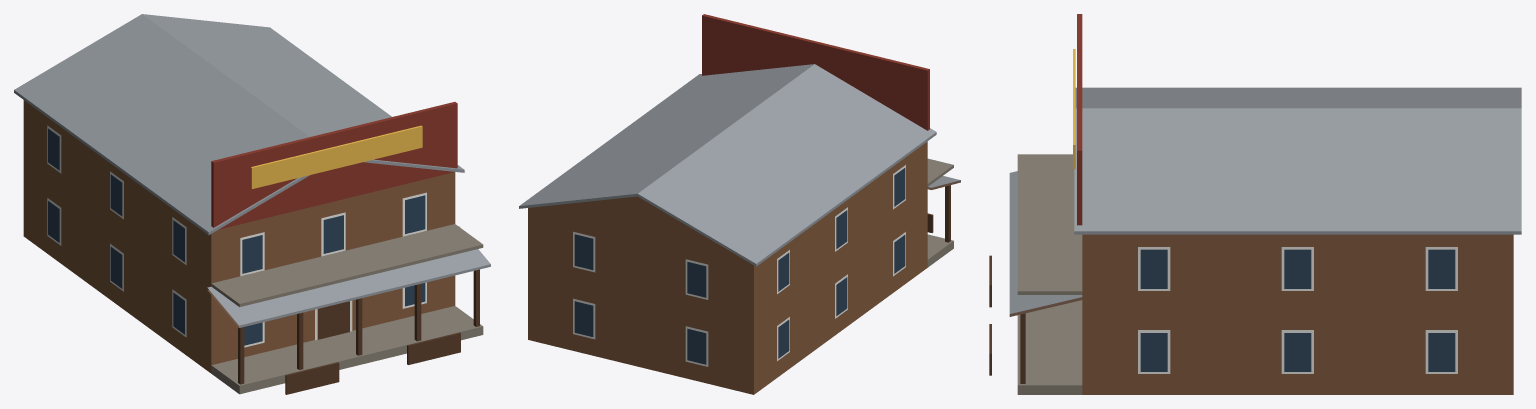
The model's file is saloon_western.glb.
3 renders of one model, left to right at view 1: azimuth 30°, elevation 25°; view 2: azimuth 150°, elevation 25°; view 3: azimuth 270°, elevation 25°, orthographic. The views are drawn at different scales.
Parts seen in each view (by area): view 1: saloon_western; view 2: saloon_western; view 3: saloon_western.
Part boxes in pixels (x1,y1,x2,y2): saloon_western: [14, 14, 490, 394]; saloon_western: [519, 14, 960, 394]; saloon_western: [989, 14, 1521, 394].
Bounding box in the file's own units: 12.6 × 10 × 19.75.
Materials: 1 (1 with a texture image).
